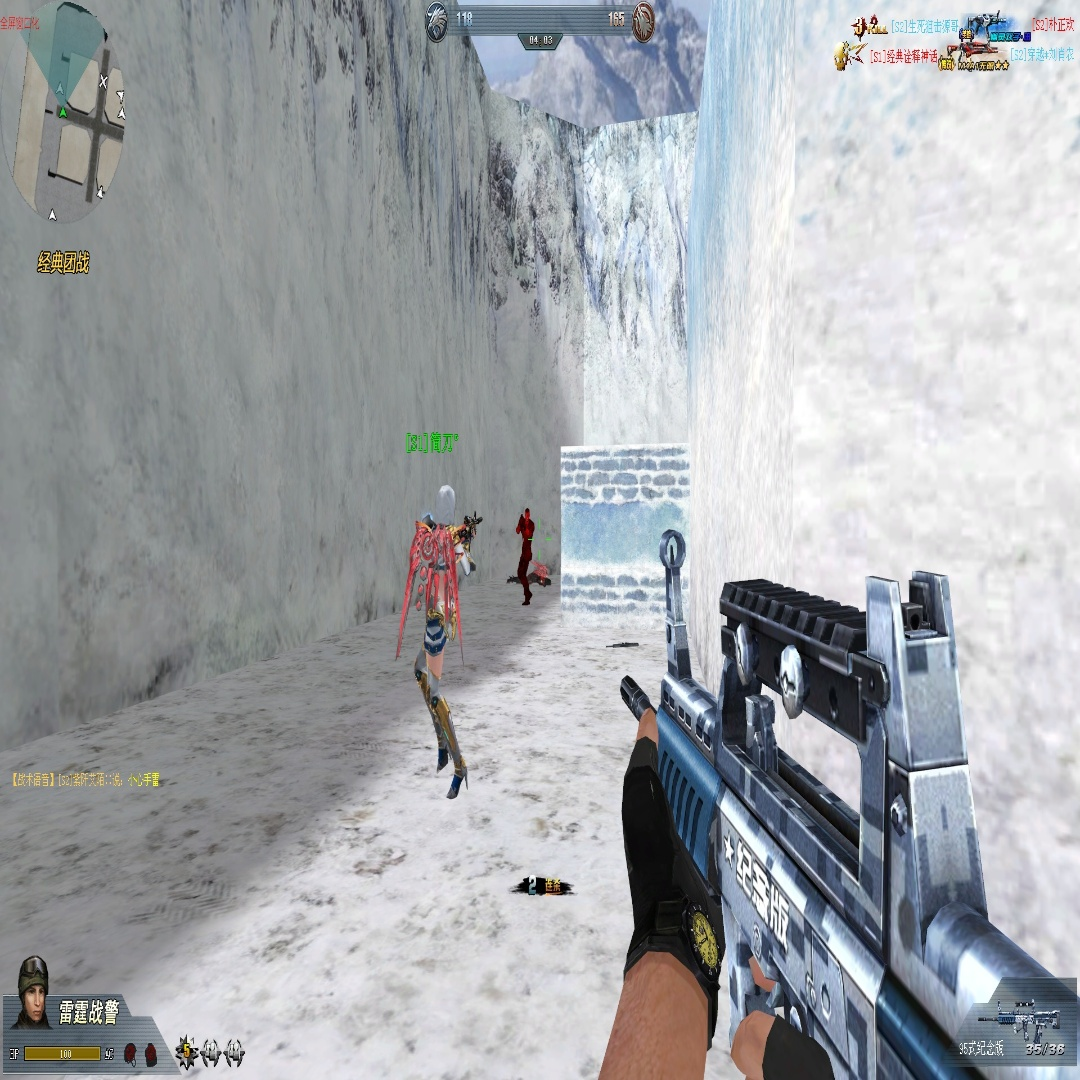ct: (425, 484, 468, 783)
